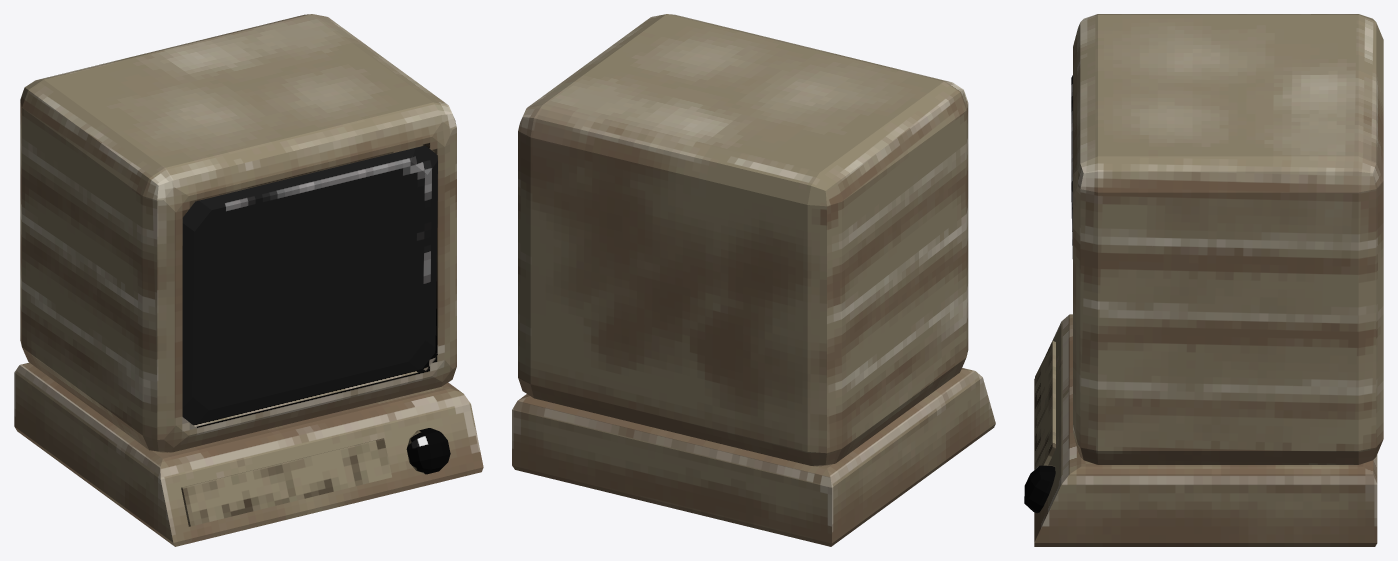
File: Lvl1_PC_Mdl1.fbx
3 renders of one model, left to right at view 1: azimuth 30°, elevation 25°; view 2: azimuth 150°, elevation 25°; view 3: azimuth 270°, elevation 25°, orthographic. The views are drawn at different scales.
Visible parts, largest first — view 1: Lvl1_PC_Mdl1; view 2: Lvl1_PC_Mdl1; view 3: Lvl1_PC_Mdl1.
Boxes of the visible parts, bbox=[...] form: Lvl1_PC_Mdl1: bbox=[14, 14, 483, 546]; Lvl1_PC_Mdl1: bbox=[512, 14, 995, 546]; Lvl1_PC_Mdl1: bbox=[1024, 14, 1383, 546].
Size of the model in its own units: 73.59 by 67.89 by 79.83.
